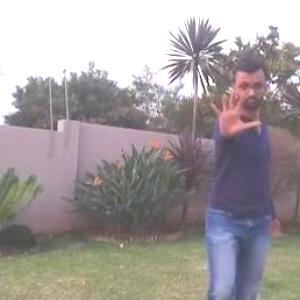follow_hand: (207, 87, 265, 143)
